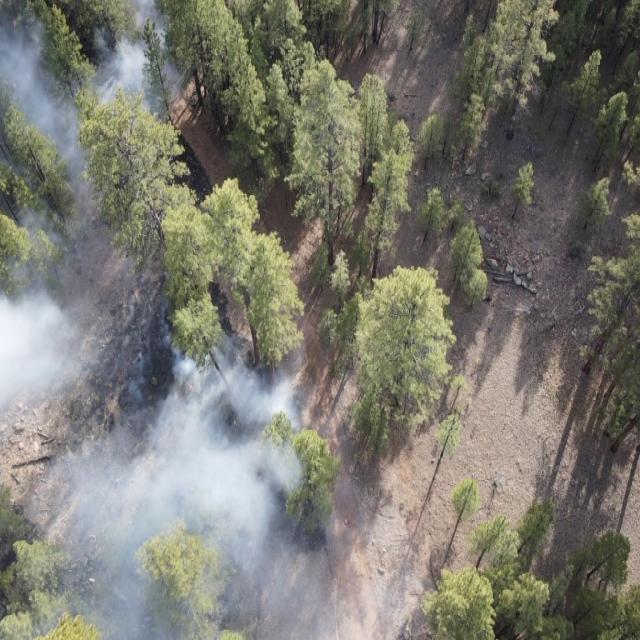fire: (12, 19, 18, 30), (188, 382, 194, 392)
smoke: (0, 254, 319, 640), (0, 0, 203, 160), (21, 160, 117, 276)
